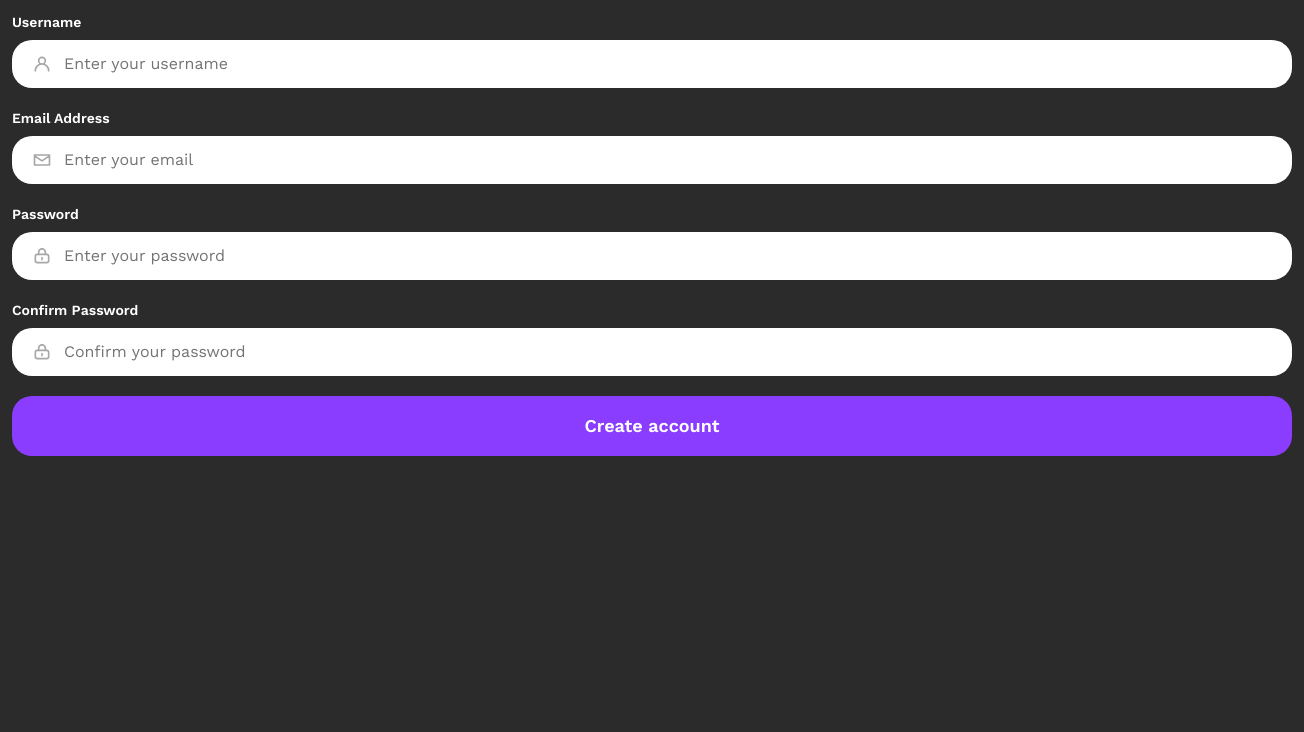
Test case: CreateAccountForm › clears a field error once that field is edited
Click the button "Create account" at (652, 426), box top-left (12, 396), bottom-right (1292, 456)
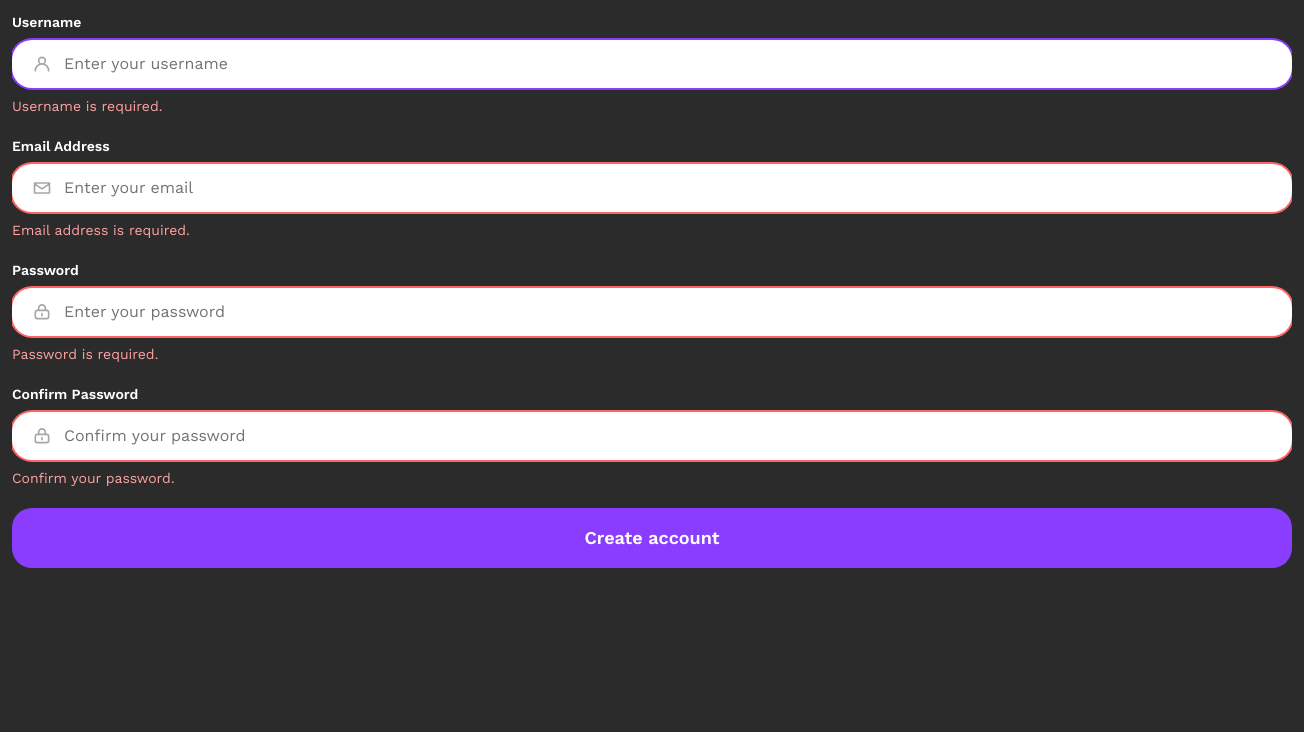
Expected: the text "Username is required." is shown, top-left (12, 98), bottom-right (162, 114)
Type "a" into the field labelled "Username" at (668, 64), box top-left (64, 52), bottom-right (1272, 76)
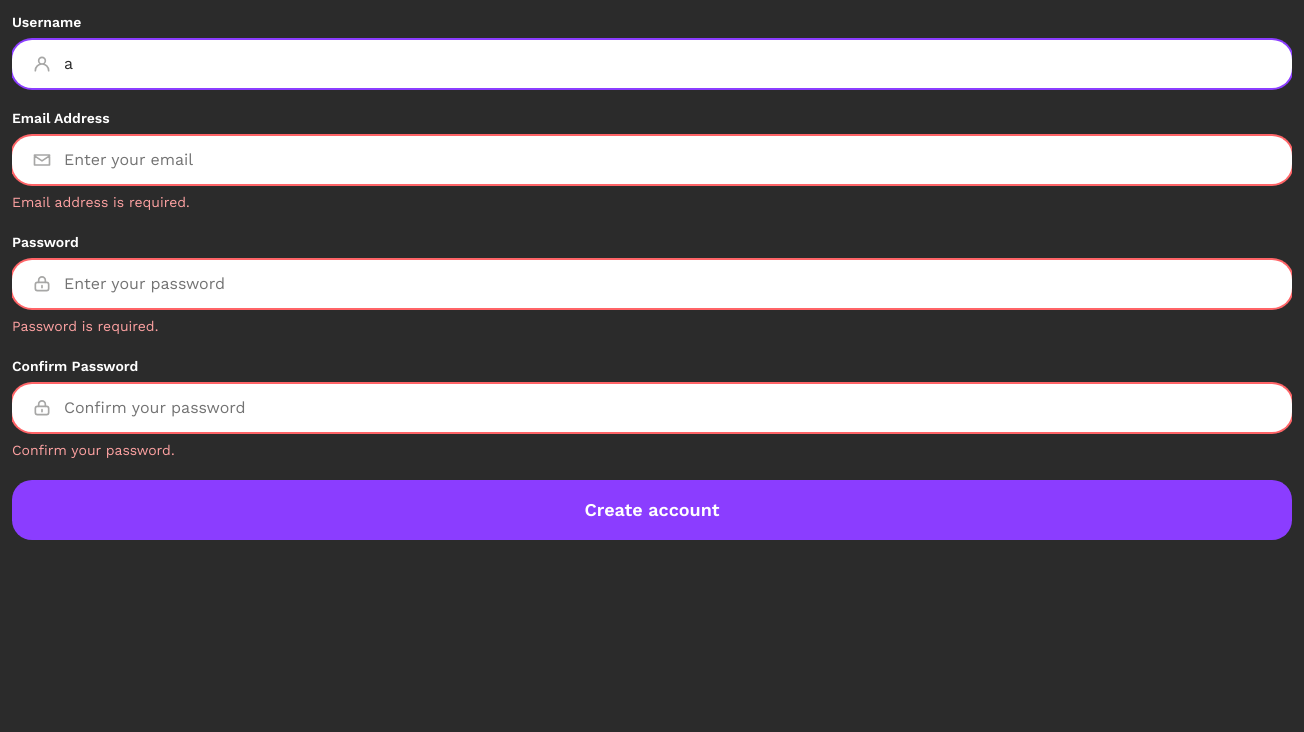
Expected: the text "Username is required." is gone
